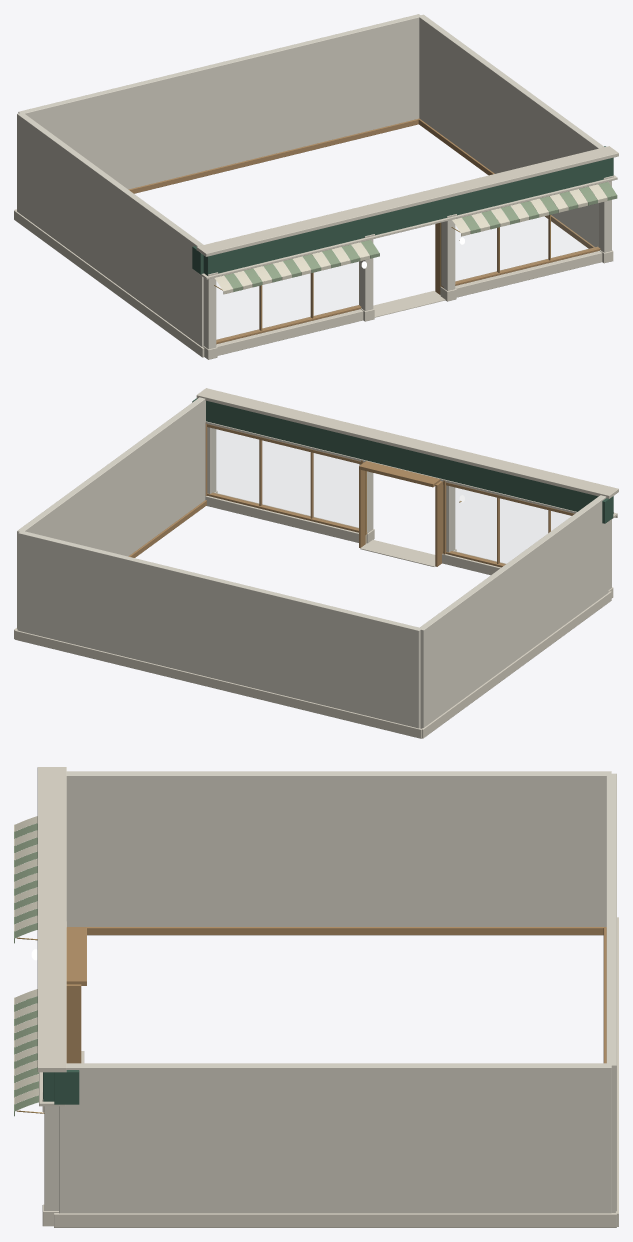
Rendered from form-thread-shell.glb.
The picture shows the model from 3 angles, top to bottom: view 1: azimuth 30°, elevation 25°; view 2: azimuth 150°, elevation 25°; view 3: azimuth 270°, elevation 25°; orthographic projection. The views are drawn at different scales.
Visible parts, largest first — view 1: Shop ivory plaster, Shop honed limestone, Shop forest enamel, Shop white oak, Shop sage linen, Shop ivory curtain; view 2: Shop ivory plaster, Shop honed limestone, Shop forest enamel, Shop white oak; view 3: Shop ivory plaster, Shop honed limestone, Shop white oak, Shop sage linen, Shop ivory curtain, Shop forest enamel.
Part boxes in pixels (x1,y1,x2,y2): Shop ivory plaster: [17, 14, 611, 349]; Shop honed limestone: [14, 146, 618, 359]; Shop forest enamel: [192, 146, 613, 275]; Shop white oak: [128, 118, 600, 344]; Shop sage linen: [224, 182, 617, 291]; Shop ivory curtain: [214, 184, 607, 294]; Shop ivory plaster: [17, 397, 611, 728]; Shop honed limestone: [14, 388, 618, 738]; Shop forest enamel: [192, 398, 613, 523]; Shop white oak: [128, 422, 574, 567]; Shop ivory plaster: [44, 771, 616, 1213]; Shop honed limestone: [37, 767, 618, 1227]; Shop white oak: [66, 927, 606, 1063]; Shop sage linen: [14, 823, 38, 1116]; Shop ivory curtain: [14, 816, 38, 1104]; Shop forest enamel: [43, 1070, 79, 1104].
Size of the model in its own units: 20.6 by 5.17 by 17.52.
